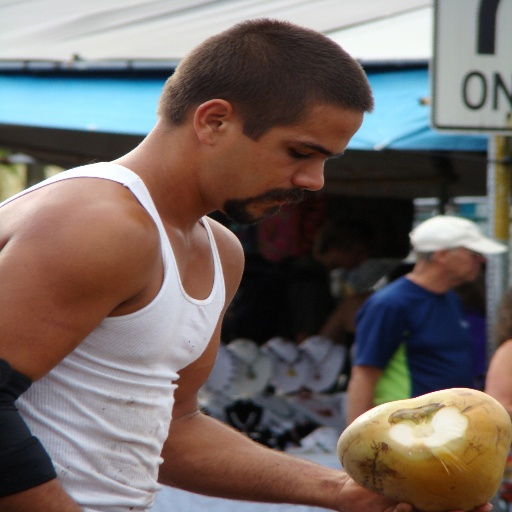hand: (336, 477, 492, 511)
